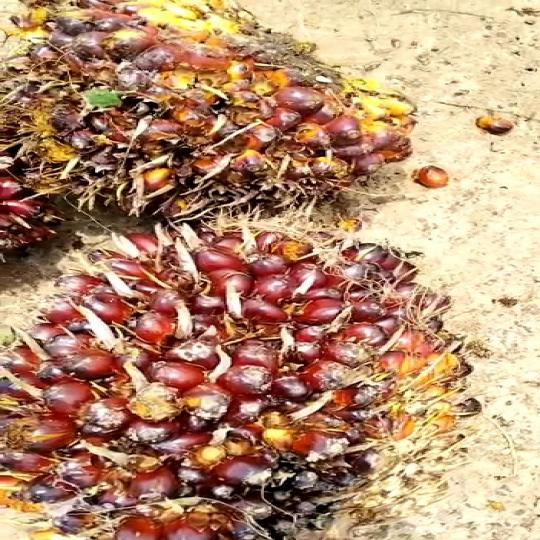masak: (0, 223, 488, 538), (0, 0, 431, 224)
